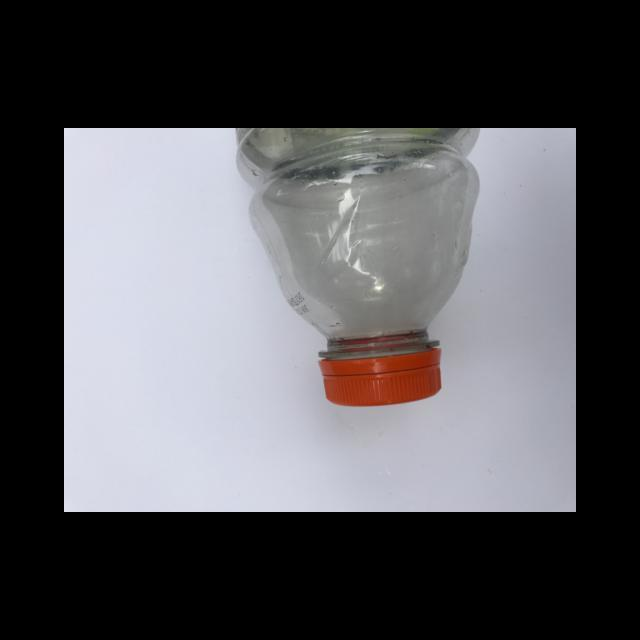plastic: (234, 128, 479, 406), (318, 331, 441, 405)
